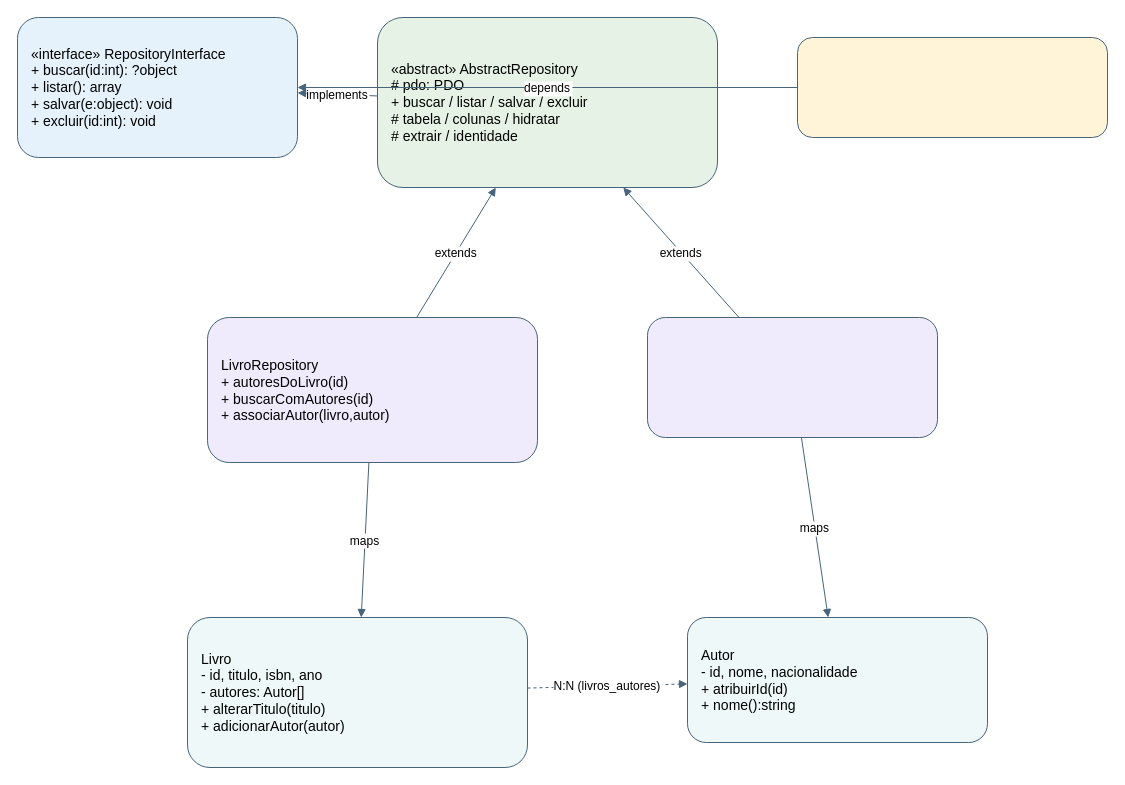
This 1125x785 diagram has some shape labels left out. Each missing label, with the box of its shape:
AutorRepository + hidratar(row): Autor + extrair(entity): array: (646, 316, 938, 438)
ConsultaPolimorfica + buscar(RepositoryInterface,id):object: (796, 36, 1108, 138)
